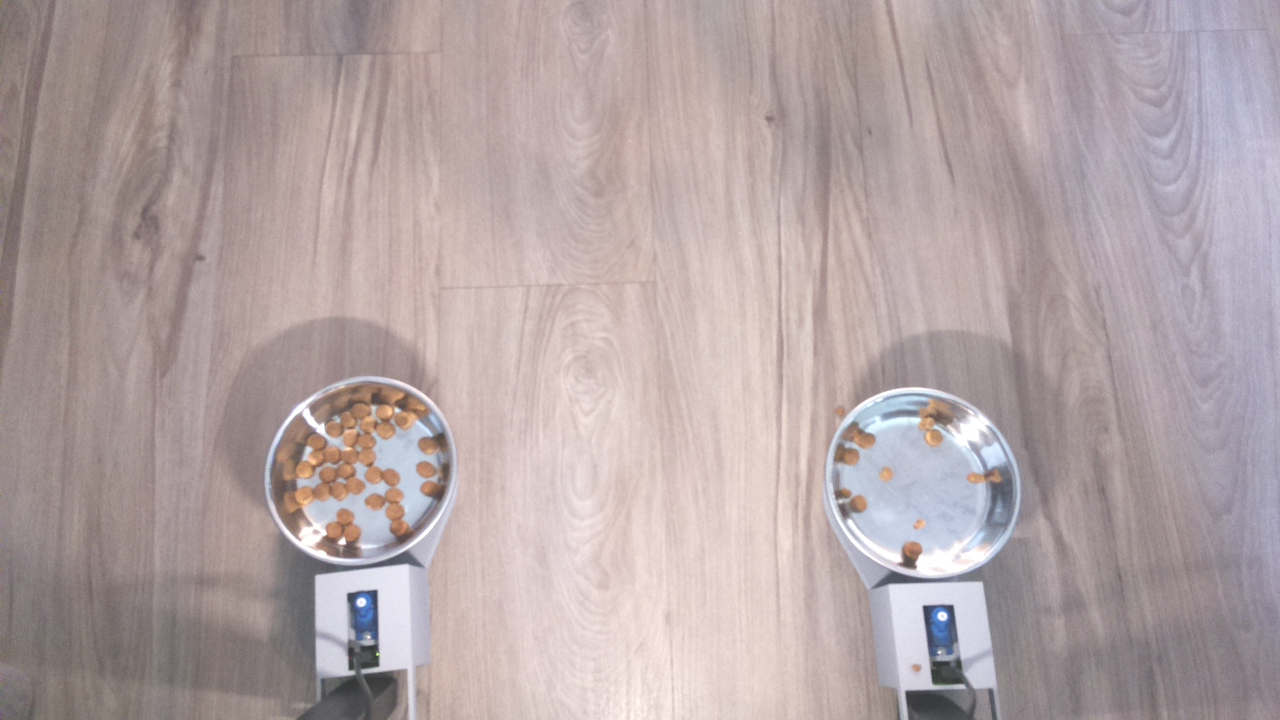open_bowl: (818, 380, 1026, 586), (261, 372, 458, 569)
